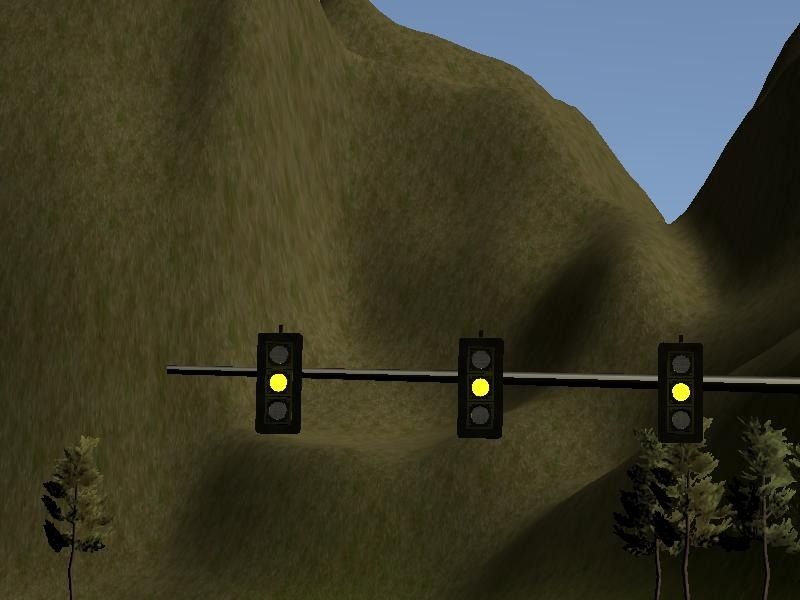yellow: (246, 320, 312, 444), (650, 332, 713, 449), (453, 326, 509, 444)
